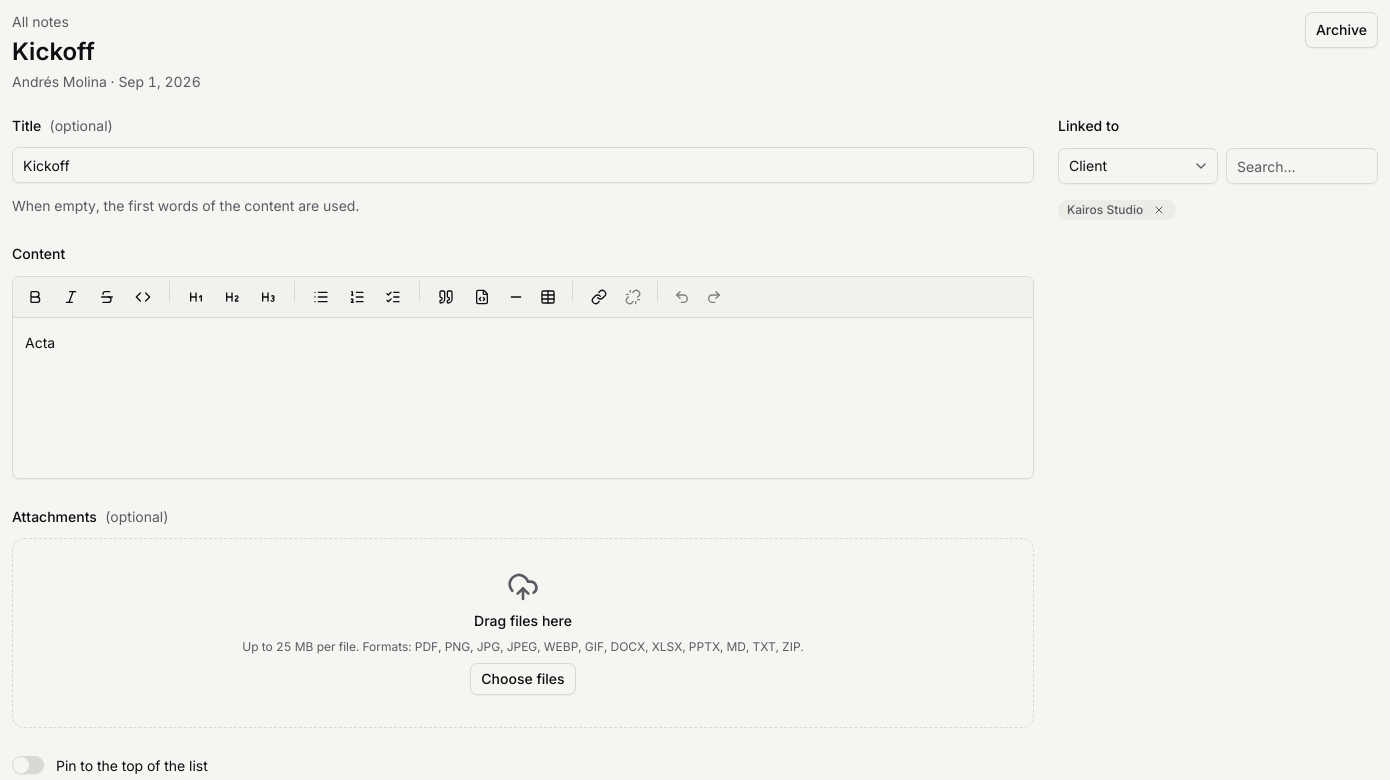
Test case: NoteDetail › shows the service's last-link guard message when the only link is removed
The width and height of the screenshot is (1390, 780).
Click the button named "Remove Kairos Studio" at (1159, 210), box [1147,198,1171,222]
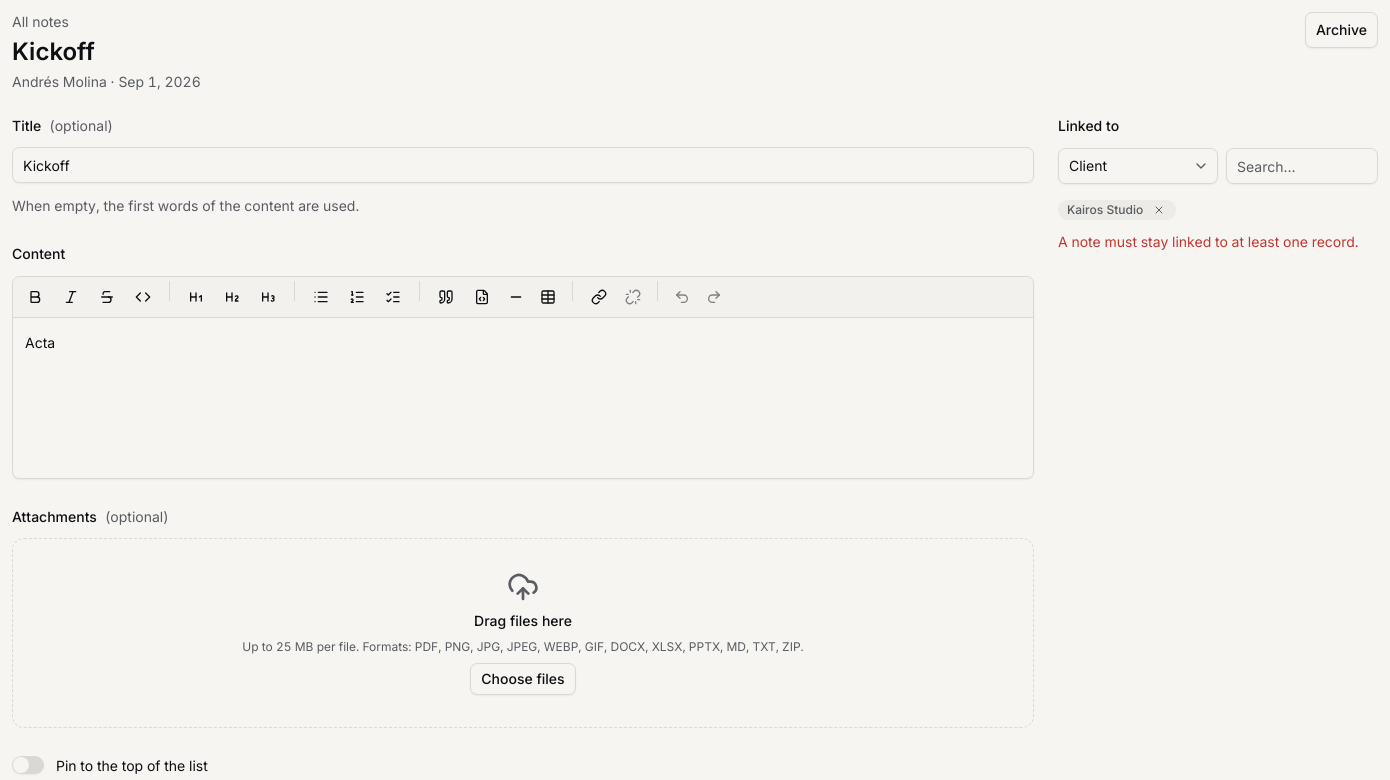
Now the message reads "A note must stay linked to at least one record.", box [1058,233,1359,250]
